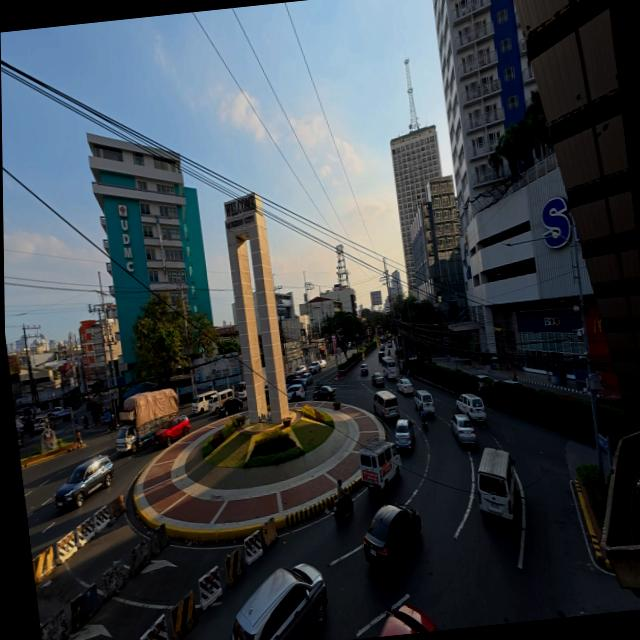bus: (382, 357, 398, 379)
car: (231, 564, 327, 639), (364, 504, 421, 573), (55, 456, 114, 508), (380, 605, 437, 636), (155, 416, 190, 445), (451, 414, 477, 443), (395, 419, 415, 448), (217, 397, 243, 416), (597, 395, 623, 408), (313, 386, 335, 401), (287, 384, 305, 401), (397, 378, 414, 394), (477, 375, 494, 391), (288, 378, 307, 391), (235, 382, 247, 401), (34, 417, 49, 432), (372, 372, 385, 387), (308, 361, 321, 373), (295, 365, 307, 377), (302, 373, 313, 385), (504, 380, 525, 386), (11, 438, 20, 452), (52, 407, 63, 418), (286, 373, 296, 385), (361, 364, 369, 376), (265, 385, 270, 404), (378, 351, 385, 362), (319, 359, 326, 368), (346, 341, 352, 348), (387, 340, 392, 348), (380, 345, 385, 352)
motorcycle: (334, 495, 353, 524), (109, 418, 118, 432), (421, 412, 427, 427), (17, 436, 24, 447), (83, 417, 88, 429)
trucks: (116, 389, 178, 453)
vans: (478, 447, 515, 522), (360, 437, 401, 489), (457, 394, 485, 420), (373, 391, 399, 418), (209, 389, 235, 412), (193, 391, 216, 414), (414, 390, 435, 414)
